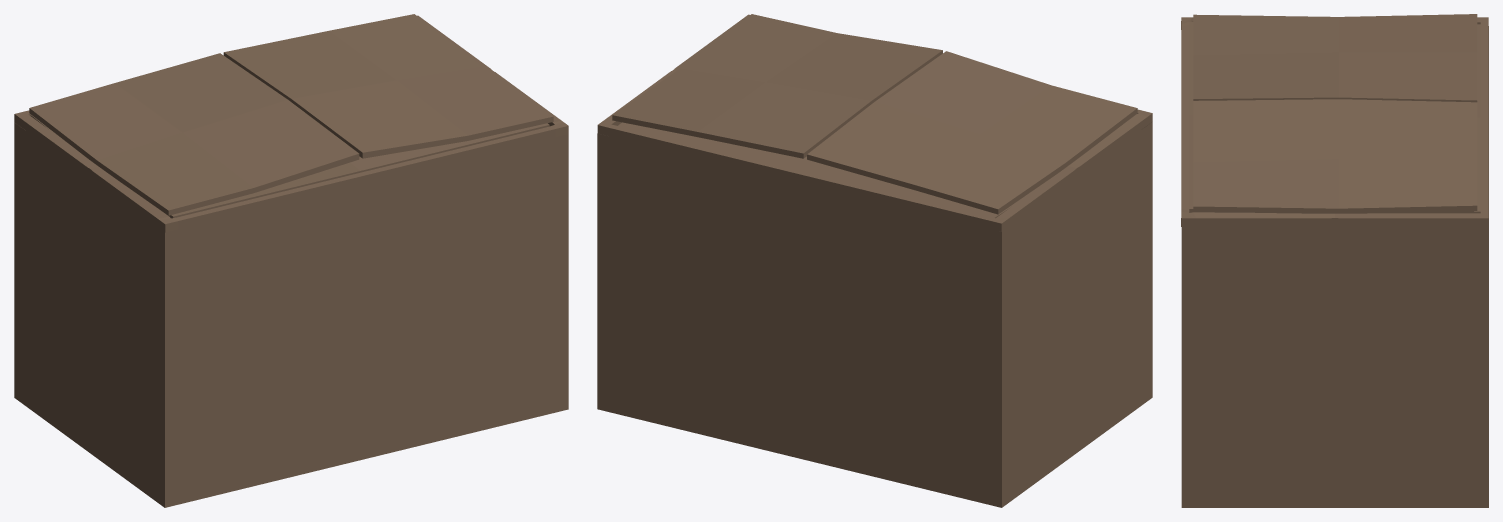
Rendered from pahvilaatikkofixed.fbx.
3 views of the same model, side by side, from view 1: azimuth 30°, elevation 25°; view 2: azimuth 150°, elevation 25°; view 3: azimuth 270°, elevation 25° (orthographic). The views are drawn at different scales.
Parts seen in each view (by area): view 1: laatikko, kansi4, kansi2, kansi1; view 2: laatikko, kansi4, kansi2, kansi3; view 3: laatikko, kansi2, kansi4, kansi1, kansi3.
Boxes of the visible parts, x1,y1,x2,y2 form: laatikko: (14,15,568,507); kansi4: (29,53,359,215); kansi2: (223,14,553,158); kansi1: (168,123,549,218); laatikko: (597,14,1152,507); kansi4: (807,51,1137,214); kansi2: (612,14,942,158); kansi3: (618,122,1040,218); laatikko: (1181,17,1488,507); kansi2: (1193,99,1477,213); kansi4: (1193,14,1477,102); kansi1: (1189,21,1232,212); kansi3: (1383,24,1480,213).
Size of the model in its own units: 0.7271 by 0.5211 by 0.4705.
